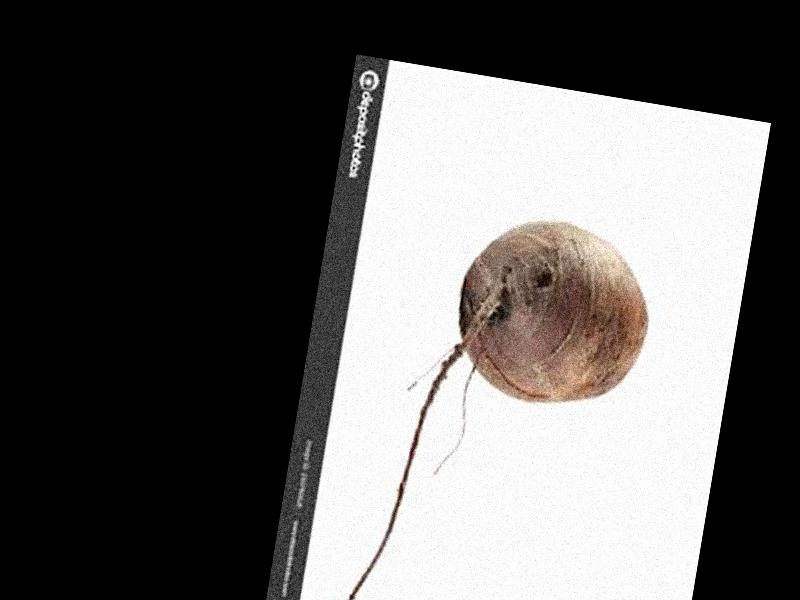Beet: (342, 198, 659, 600)
